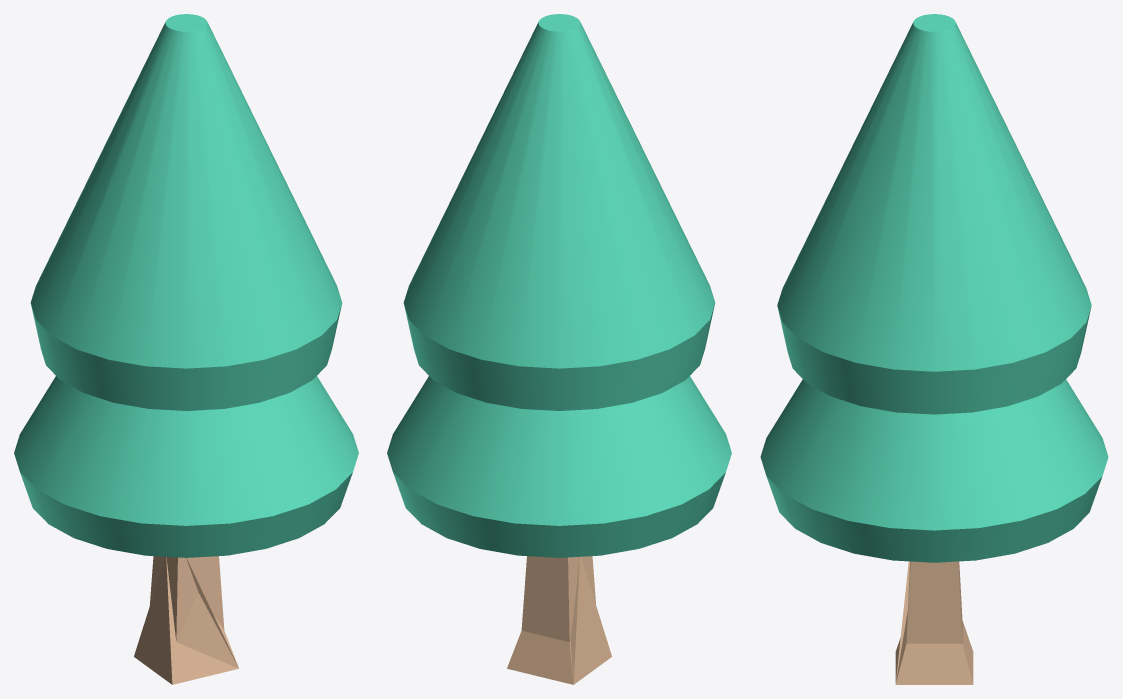
File: treebreak.fbx
3 views of the same model, side by side, from view 1: azimuth 30°, elevation 25°; view 2: azimuth 150°, elevation 25°; view 3: azimuth 270°, elevation 25° (orthographic).
Parts seen in each view (by area): view 1: treePine.001, treePine; view 2: treePine.001, treePine; view 3: treePine.001, treePine.
Boxes of the visible parts, bbox=[...] form: treePine.001: bbox=[14, 14, 358, 597]; treePine: bbox=[134, 556, 238, 684]; treePine.001: bbox=[387, 14, 731, 595]; treePine: bbox=[507, 556, 611, 684]; treePine.001: bbox=[760, 14, 1108, 593]; treePine: bbox=[895, 561, 973, 684].
Bounding box in the file's own units: 94.85 × 194 × 94.85.
